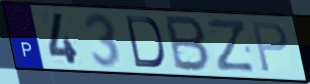3: (83, 10, 123, 71)
4: (46, 10, 82, 67)
B: (164, 13, 212, 74)
D: (123, 14, 167, 70)
P: (250, 21, 290, 74)
Z: (204, 17, 257, 73)
